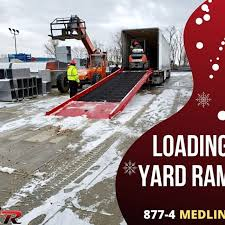Yard Ramp: (45, 69, 150, 118)
